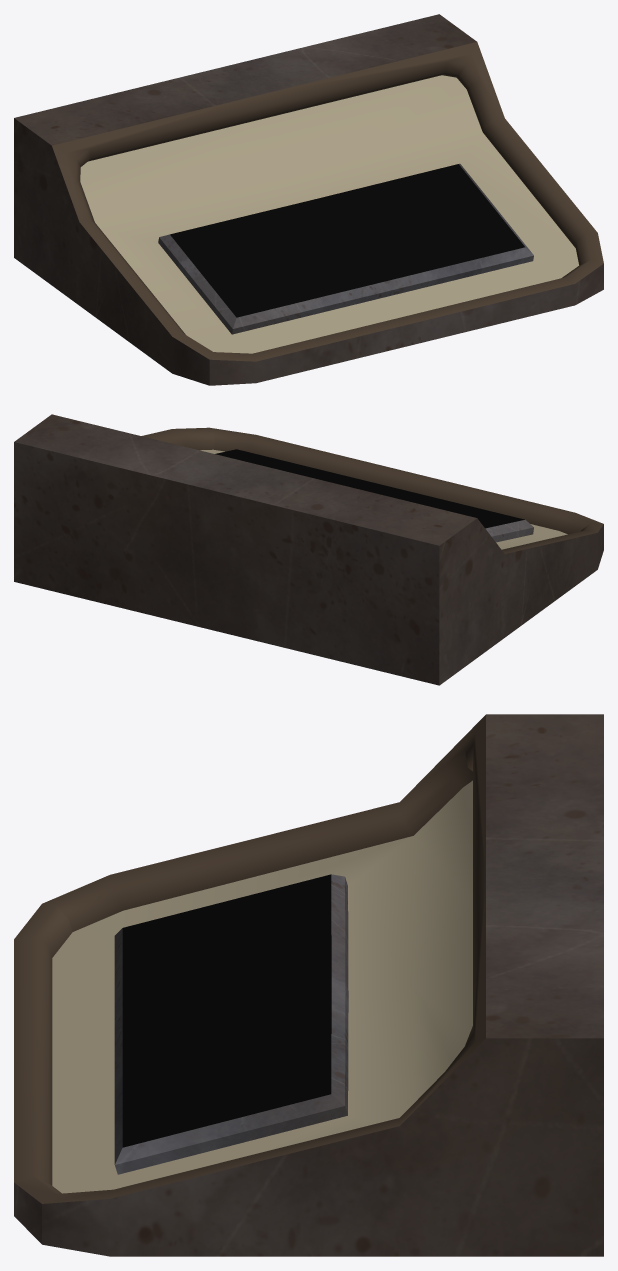
Rendered from HeistConsoleKeyboard.fbx.
3 renders of one model, top to bottom at view 1: azimuth 30°, elevation 25°; view 2: azimuth 150°, elevation 25°; view 3: azimuth 270°, elevation 25°, orthographic. The views are drawn at different scales.
Parts seen in each view (by area): view 1: Console_Keyboard; view 2: Console_Keyboard; view 3: Console_Keyboard.
Boxes of the visible parts, left/top/right/bottom form: Console_Keyboard: left=14, top=14, right=603, bottom=385; Console_Keyboard: left=14, top=414, right=603, bottom=685; Console_Keyboard: left=14, top=714, right=603, bottom=1256.
Size of the model in its own units: 3.25 by 1.02 by 2.5.
Materials: 5 (2 with a texture image).
